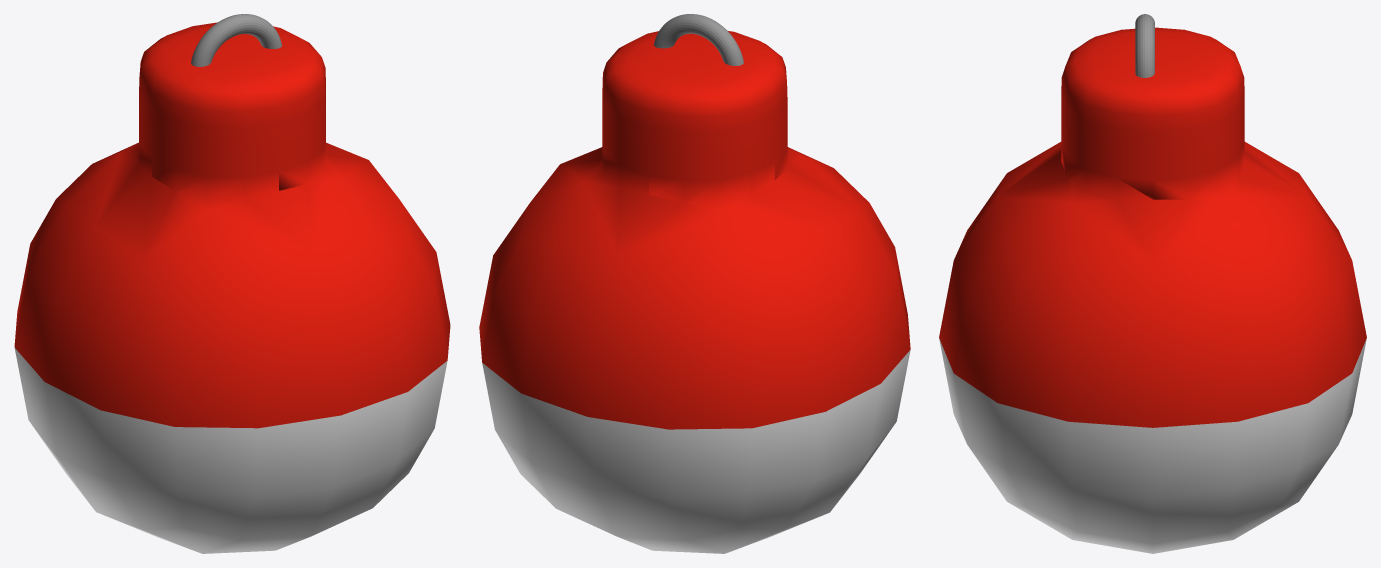
File: bobber.glb
The picture shows the model from 3 angles, left to right: view 1: azimuth 30°, elevation 25°; view 2: azimuth 150°, elevation 25°; view 3: azimuth 270°, elevation 25°; orthographic projection.
Visible parts, largest first — view 1: bobber; view 2: bobber; view 3: bobber.
Part boxes in pixels (x1,y1,x2,y2): bobber: [14, 14, 450, 553]; bobber: [479, 14, 910, 553]; bobber: [939, 14, 1366, 553].
Size of the model in its own units: 0.5037 by 0.6658 by 0.5037.
